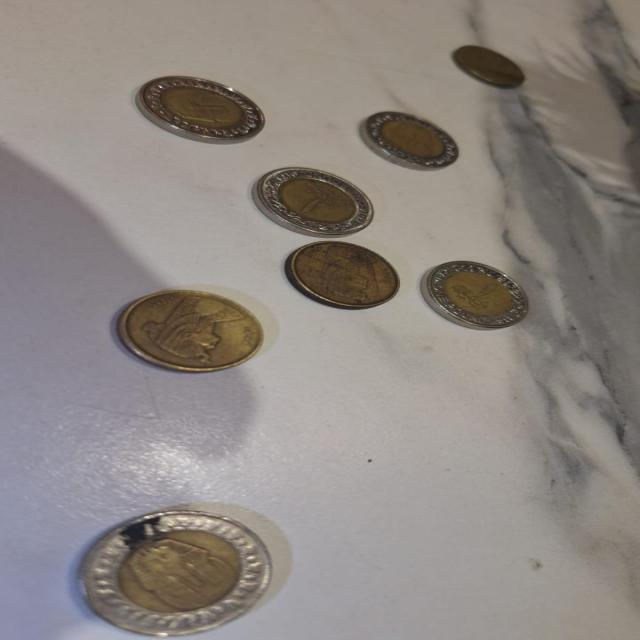Half Pound: (121, 287, 267, 376), (288, 238, 406, 311), (452, 45, 527, 88)
One Pound: (68, 507, 280, 638), (422, 254, 544, 330), (242, 168, 378, 236), (140, 73, 272, 141), (367, 108, 461, 167)
